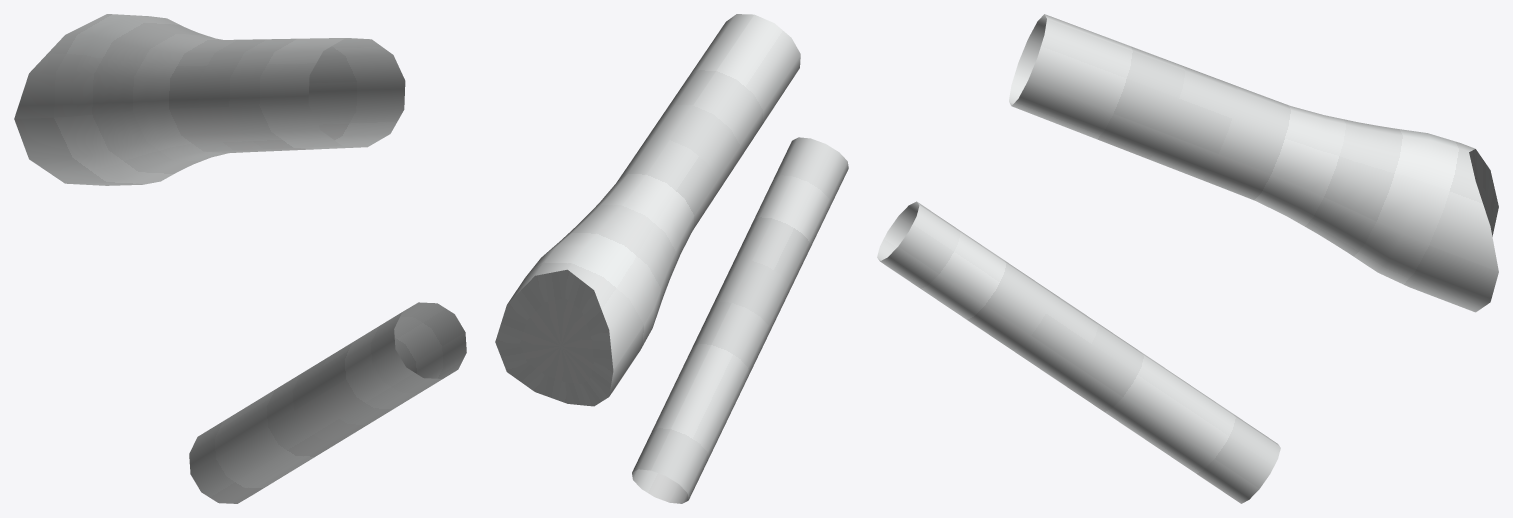
The model's file is luminairearm_truss10ftstraightdouble_c8_thin.obj.
3 renders of one model, left to right at view 1: azimuth 30°, elevation 25°; view 2: azimuth 150°, elevation 25°; view 3: azimuth 270°, elevation 25°, orthographic. The views are drawn at different scales.
Parts seen in each view (by area): view 1: luminairearm_truss10ftstraightdouble_c8_thin; view 2: luminairearm_truss10ftstraightdouble_c8_thin; view 3: luminairearm_truss10ftstraightdouble_c8_thin.
Part boxes in pixels (left/top/right/bottom): luminairearm_truss10ftstraightdouble_c8_thin: left=14, top=14, right=466, bottom=503; luminairearm_truss10ftstraightdouble_c8_thin: left=495, top=14, right=848, bottom=503; luminairearm_truss10ftstraightdouble_c8_thin: left=877, top=14, right=1498, bottom=503.
Bounding box in the file's own units: 0.3375 × 1.16 × 1.36.
